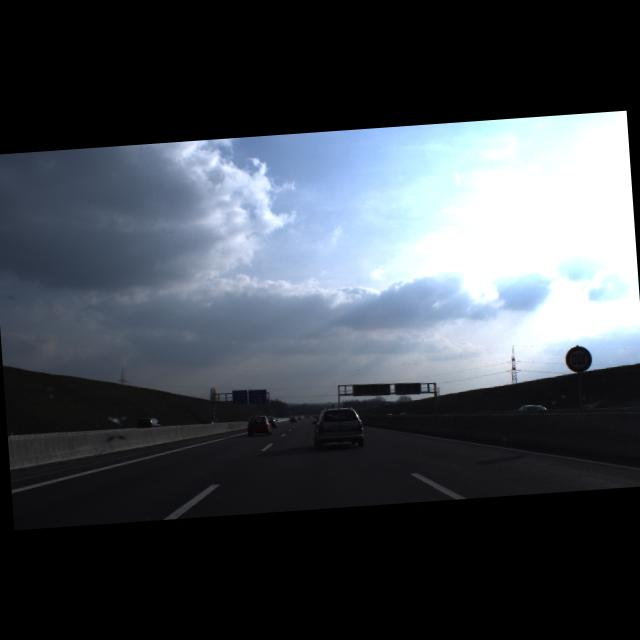prohibitory: (564, 344, 593, 374)
